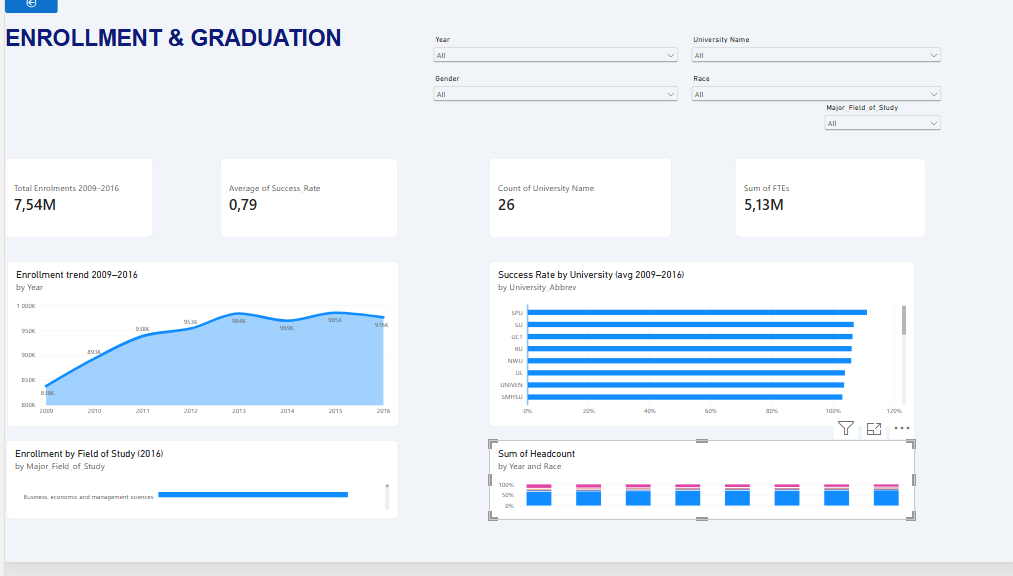

Layout of this report page (visuals, bound fields, positions):
{"tool":"powerbi","page":{"name":"Page 1","canvas":[1920,1080],"ordinal":0},"visuals":[{"type":"lineChart","fields":{"Category":["Dim_Year.Year"],"Y":["Sum(Fact_Enrollment.Headcounts)"]},"box":[4,508,742,314],"z":0},{"type":"clusteredBarChart","fields":{"Category":["Fact_Success.University_Abbrev"],"Y":["Sum(Fact_Success.Success_Rate)"]},"box":[916,508,806,314],"z":1000},{"type":"actionButton","box":[0,0,100,40],"z":2000},{"type":"textbox","box":[0,62,742,80],"z":3000},{"type":"slicer","fields":{"Values":["Dim_Year.Year"]},"box":[806,82,472,60],"z":4000},{"type":"slicer","fields":{"Values":["Dim_University.University Name"]},"box":[1294,82,482,60],"z":5000},{"type":"cardVisual","fields":{"Data":["Sum(Fact_Enrollment.Headcounts)"]},"box":[0,313.3,280,150],"z":6000},{"type":"cardVisual","fields":{"Data":["Sum(Fact_Enrollment.FTEs)"]},"box":[1380,314,360,150],"z":7000},{"type":"cardVisual","fields":{"Data":["Avg(Fact_Success.Success_Rate)"]},"box":[406,314,336,150],"z":8000},{"type":"cardVisual","fields":{"Data":["Count(Dim_University.University Name)"]},"box":[916,314,346,150],"z":9000},{"type":"hundredPercentStackedColumnChart","fields":{"Category":["Dim_Year.Year"],"Series":["Fact_Race.Race"],"Y":["Sum(Fact_Race.Headcount)"]},"box":[916,848,806,150],"z":10000},{"type":"clusteredBarChart","fields":{"Category":["Fact_Field.Major_Field_of_Study"],"Y":["Sum(Fact_Field.Enrolment_Count)"]},"box":[1.7,848.3,742,150],"z":11000},{"type":"slicer","fields":{"Values":["Fact_Gender.Gender"]},"box":[806,156,472,74],"z":12000},{"type":"slicer","fields":{"Values":["Fact_Race.Race"]},"box":[1294,156,482,74],"z":13000},{"type":"slicer","fields":{"Values":["Fact_Field.Major_Field_of_Study"]},"box":[1546,210,230,88],"z":14000}]}

Visuals, with their boxes in screenshot pixels (x1, y1, x2, y2), scaled from the page's 1920x1080 canvas onto the 1013x576 screenshot:
lineChart - Dim_Year.Year x Sum(Fact_Enrollment.Headcounts): select_region(2, 271, 394, 438)
clusteredBarChart - Fact_Success.University_Abbrev x Sum(Fact_Success.Success_Rate): select_region(483, 271, 909, 438)
actionButton: select_region(0, 0, 53, 21)
textbox: select_region(0, 33, 391, 76)
slicer - Dim_Year.Year: select_region(425, 44, 674, 76)
slicer - Dim_University.University Name: select_region(683, 44, 937, 76)
cardVisual - Sum(Fact_Enrollment.Headcounts): select_region(0, 167, 148, 247)
cardVisual - Sum(Fact_Enrollment.FTEs): select_region(728, 167, 918, 247)
cardVisual - Avg(Fact_Success.Success_Rate): select_region(214, 167, 391, 247)
cardVisual - Count(Dim_University.University Name): select_region(483, 167, 666, 247)
hundredPercentStackedColumnChart - Dim_Year.Year x Fact_Race.Race: select_region(483, 452, 909, 532)
clusteredBarChart - Fact_Field.Major_Field_of_Study x Sum(Fact_Field.Enrolment_Count): select_region(1, 452, 392, 532)
slicer - Fact_Gender.Gender: select_region(425, 83, 674, 123)
slicer - Fact_Race.Race: select_region(683, 83, 937, 123)
slicer - Fact_Field.Major_Field_of_Study: select_region(816, 112, 937, 159)
